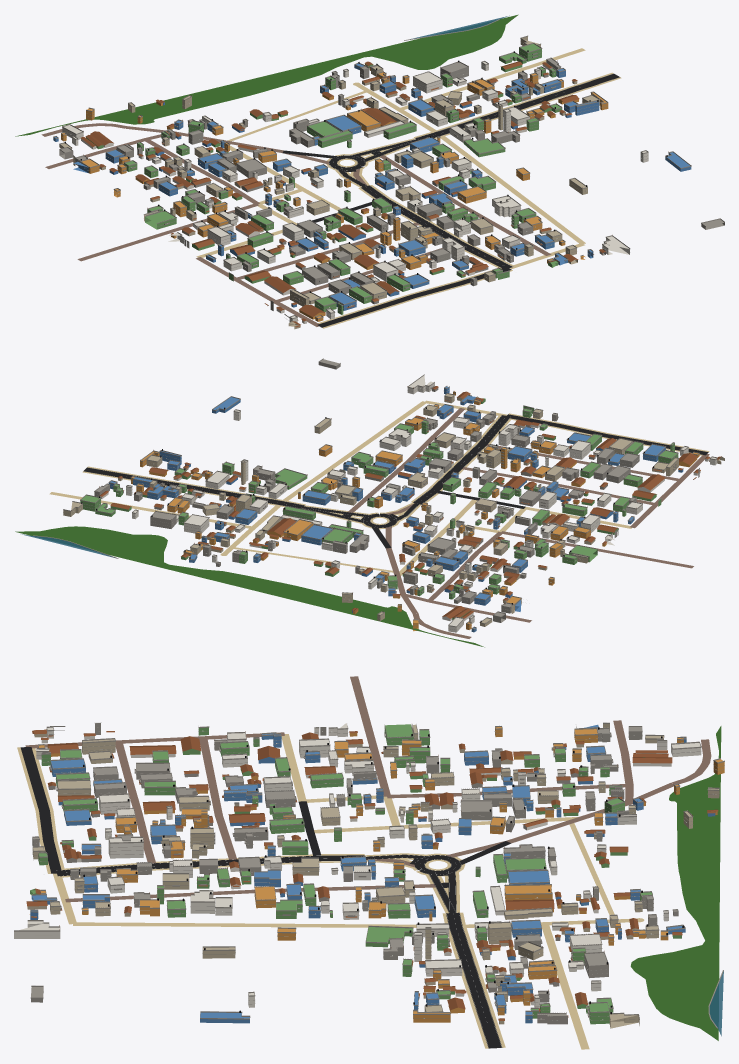
Rendered from zone_t-4_1.glb.
3 renders of one model, top to bottom at view 1: azimuth 30°, elevation 25°; view 2: azimuth 150°, elevation 25°; view 3: azimuth 270°, elevation 25°, orthographic. The views are drawn at different scales.
Visible parts, largest first — view 1: parapet_t-4_1, bld_peinture_vert_t-4_1-col, bld_peinture_blanc_t-4_1-col, bld_beton_t-4_1-col, bld_peinture_bleu_t-4_1-col, zone_humide_t-4_1, toit_tole_t-4_1, bld_peinture_ecaillee_t-4_1-col, bld_peinture_ocre_t-4_1-col, route_residential_paves_t-4_1, route_residential_terre_t-4_1, bandeau_t-4_1 (+3 smaller); view 2: parapet_t-4_1, bld_peinture_vert_t-4_1-col, bld_peinture_blanc_t-4_1-col, bld_beton_t-4_1-col, bld_peinture_bleu_t-4_1-col, zone_humide_t-4_1, bld_peinture_ecaillee_t-4_1-col, toit_tole_t-4_1, bld_peinture_ocre_t-4_1-col, route_residential_paves_t-4_1, route_residential_terre_t-4_1, route_secondary_bitume_t-4_1 (+3 smaller); view 3: parapet_t-4_1, bld_peinture_vert_t-4_1-col, bld_peinture_blanc_t-4_1-col, zone_humide_t-4_1, bld_beton_t-4_1-col, bld_peinture_bleu_t-4_1-col, bld_peinture_ecaillee_t-4_1-col, toit_tole_t-4_1, bld_peinture_ocre_t-4_1-col, route_residential_paves_t-4_1, route_residential_terre_t-4_1, bandeau_t-4_1 (+6 smaller).
Part boxes in pixels (bbox=[...]): parapet_t-4_1: bbox=[53, 35, 724, 319]; bld_peinture_vert_t-4_1-col: bbox=[86, 44, 562, 314]; bld_peinture_blanc_t-4_1-col: bbox=[62, 62, 648, 323]; bld_beton_t-4_1-col: bbox=[59, 59, 724, 310]; bld_peinture_bleu_t-4_1-col: bbox=[53, 63, 691, 310]; zone_humide_t-4_1: bbox=[15, 14, 518, 136]; toit_tole_t-4_1: bbox=[81, 61, 605, 324]; bld_peinture_ecaillee_t-4_1-col: bbox=[59, 36, 599, 329]; bld_peinture_ocre_t-4_1-col: bbox=[61, 68, 608, 321]; route_residential_paves_t-4_1: bbox=[41, 123, 551, 326]; route_residential_terre_t-4_1: bbox=[196, 48, 585, 269]; bandeau_t-4_1: bbox=[60, 39, 648, 320]; parapet_t-4_1: bbox=[63, 358, 717, 629]; bld_peinture_vert_t-4_1-col: bbox=[80, 398, 678, 619]; bld_peinture_blanc_t-4_1-col: bbox=[99, 375, 717, 632]; bld_beton_t-4_1-col: bbox=[94, 359, 699, 622]; bld_peinture_bleu_t-4_1-col: bbox=[108, 386, 683, 632]; zone_humide_t-4_1: bbox=[15, 526, 484, 647]; bld_peinture_ecaillee_t-4_1-col: bbox=[63, 394, 724, 626]; toit_tole_t-4_1: bbox=[99, 386, 721, 618]; bld_peinture_ocre_t-4_1-col: bbox=[131, 391, 699, 631]; route_residential_paves_t-4_1: bbox=[348, 408, 709, 638]; route_residential_terre_t-4_1: bbox=[49, 400, 631, 575]; route_secondary_bitume_t-4_1: bbox=[83, 415, 510, 528]; parapet_t-4_1: bbox=[14, 722, 724, 1019]; bld_peinture_vert_t-4_1-col: bbox=[30, 724, 681, 1024]; bld_peinture_blanc_t-4_1-col: bbox=[14, 723, 701, 1008]; zone_humide_t-4_1: bbox=[630, 726, 721, 1040]; bld_beton_t-4_1-col: bbox=[31, 723, 678, 1024]; bld_peinture_bleu_t-4_1-col: bbox=[30, 724, 715, 1023]; bld_peinture_ecaillee_t-4_1-col: bbox=[27, 724, 719, 1028]; toit_tole_t-4_1: bbox=[26, 729, 718, 1020]; bld_peinture_ocre_t-4_1-col: bbox=[29, 727, 724, 1022]; route_residential_paves_t-4_1: bbox=[25, 676, 711, 902]; route_residential_terre_t-4_1: bbox=[53, 734, 644, 1049]; bandeau_t-4_1: bbox=[28, 727, 724, 1020].
Bounding box in the file's own units: 641 × 24.9 × 516.
